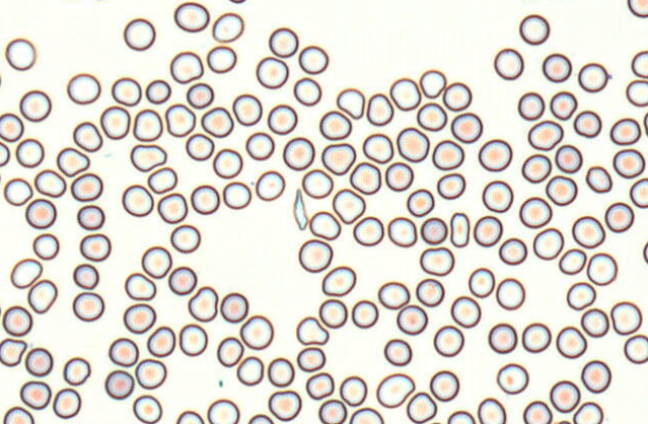RBC: (376, 372, 415, 408), (239, 314, 273, 349), (332, 188, 365, 224), (396, 126, 429, 162), (298, 238, 332, 272), (321, 142, 356, 175), (187, 285, 218, 322), (571, 215, 605, 248), (282, 136, 315, 170), (169, 50, 203, 83), (478, 138, 512, 171), (610, 300, 642, 335), (66, 72, 101, 104), (527, 119, 563, 150), (173, 1, 209, 32), (255, 56, 288, 89), (164, 103, 196, 137), (389, 77, 421, 111), (321, 265, 356, 296), (349, 161, 381, 194), (519, 196, 552, 228), (121, 184, 153, 217), (532, 227, 564, 260), (19, 89, 51, 122), (123, 17, 155, 50), (267, 390, 301, 421), (580, 359, 611, 393), (56, 146, 90, 177), (419, 246, 454, 276), (130, 143, 166, 172), (545, 174, 577, 206), (549, 380, 580, 413), (450, 295, 481, 328), (141, 245, 172, 278), (200, 106, 233, 137), (319, 109, 352, 140), (586, 252, 617, 285), (132, 108, 163, 141), (5, 37, 36, 70), (493, 47, 524, 80), (27, 279, 57, 313), (100, 105, 130, 139), (406, 391, 437, 423), (496, 363, 528, 394), (134, 358, 166, 389), (10, 257, 42, 288), (433, 324, 464, 356), (352, 215, 384, 246), (432, 139, 464, 170), (482, 180, 513, 212), (450, 112, 482, 143), (519, 13, 550, 45), (123, 303, 156, 333), (556, 325, 586, 358), (495, 277, 525, 310), (612, 148, 645, 178), (232, 93, 262, 126), (211, 12, 244, 42), (295, 316, 329, 345), (396, 304, 427, 335), (25, 198, 56, 229), (309, 210, 341, 240), (301, 168, 333, 198), (72, 291, 104, 321), (577, 62, 609, 92), (178, 323, 207, 356), (70, 172, 103, 201), (366, 92, 394, 126), (429, 370, 459, 401), (2, 305, 32, 336), (521, 322, 551, 353), (255, 170, 285, 201), (387, 216, 417, 247), (72, 121, 102, 152), (604, 201, 634, 232), (212, 148, 243, 178), (362, 133, 393, 163), (157, 192, 187, 223), (267, 103, 297, 134), (268, 26, 298, 57), (541, 52, 572, 82), (19, 380, 51, 409), (52, 387, 81, 419), (146, 325, 175, 357), (336, 87, 365, 119), (377, 281, 410, 309), (104, 369, 134, 399), (521, 153, 551, 183), (190, 184, 220, 214), (442, 81, 472, 111), (111, 76, 141, 106), (488, 322, 517, 353), (416, 102, 447, 131), (473, 215, 502, 246), (124, 272, 156, 300), (34, 169, 66, 197), (220, 291, 248, 323), (79, 233, 111, 261), (609, 117, 641, 145), (132, 394, 162, 423), (318, 298, 347, 328), (566, 281, 596, 310), (3, 177, 33, 206), (108, 337, 138, 366), (580, 307, 609, 337), (168, 265, 197, 295), (384, 161, 413, 191), (170, 224, 200, 253), (15, 137, 44, 167), (298, 45, 328, 74), (339, 375, 367, 406), (24, 347, 53, 376), (245, 131, 274, 160), (573, 109, 602, 138), (236, 355, 264, 385), (293, 76, 321, 106), (549, 90, 577, 120), (206, 45, 236, 73), (216, 336, 243, 367), (305, 371, 334, 399), (415, 278, 444, 306), (383, 338, 412, 366), (406, 188, 434, 217), (185, 132, 214, 160), (498, 237, 527, 265), (222, 181, 251, 209), (554, 144, 582, 173), (517, 91, 545, 120), (267, 357, 294, 387), (468, 267, 495, 297), (147, 166, 177, 193), (207, 398, 239, 423), (0, 337, 27, 366), (63, 356, 90, 385), (351, 299, 378, 328), (436, 172, 465, 199), (419, 69, 446, 98), (449, 211, 470, 247), (558, 248, 586, 275), (420, 216, 447, 244), (585, 165, 612, 193), (477, 397, 506, 423), (296, 346, 325, 372), (32, 233, 59, 260), (186, 82, 214, 108), (76, 204, 104, 230), (623, 334, 647, 364), (0, 112, 24, 142), (72, 263, 99, 289), (318, 399, 347, 423), (522, 400, 552, 423), (572, 401, 603, 423), (145, 79, 171, 104), (625, 79, 647, 106), (629, 177, 647, 208), (349, 407, 383, 423), (3, 406, 34, 423), (631, 50, 647, 78), (175, 410, 204, 423), (447, 410, 475, 423), (627, 0, 647, 17), (247, 413, 273, 423), (0, 141, 10, 166), (643, 111, 648, 136), (642, 240, 647, 264), (227, 0, 247, 4), (553, 419, 572, 423)
Schistocyte: (294, 190, 309, 231)
